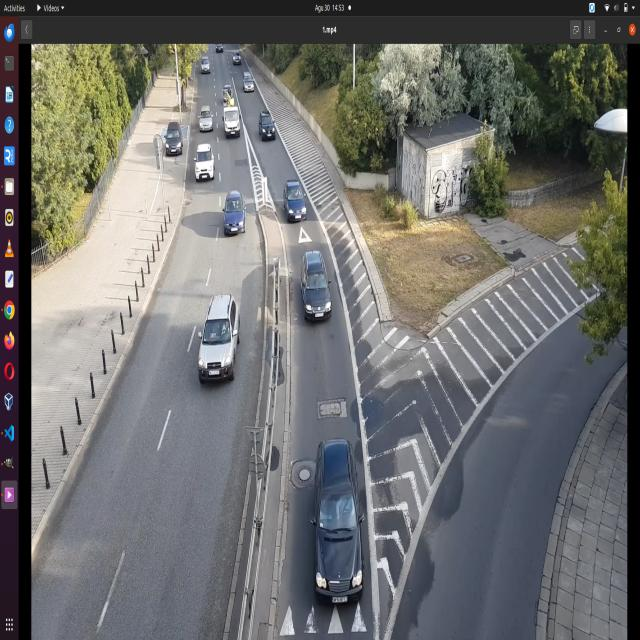person_with_seatbelt: (334, 488, 356, 525), (219, 316, 233, 339)
